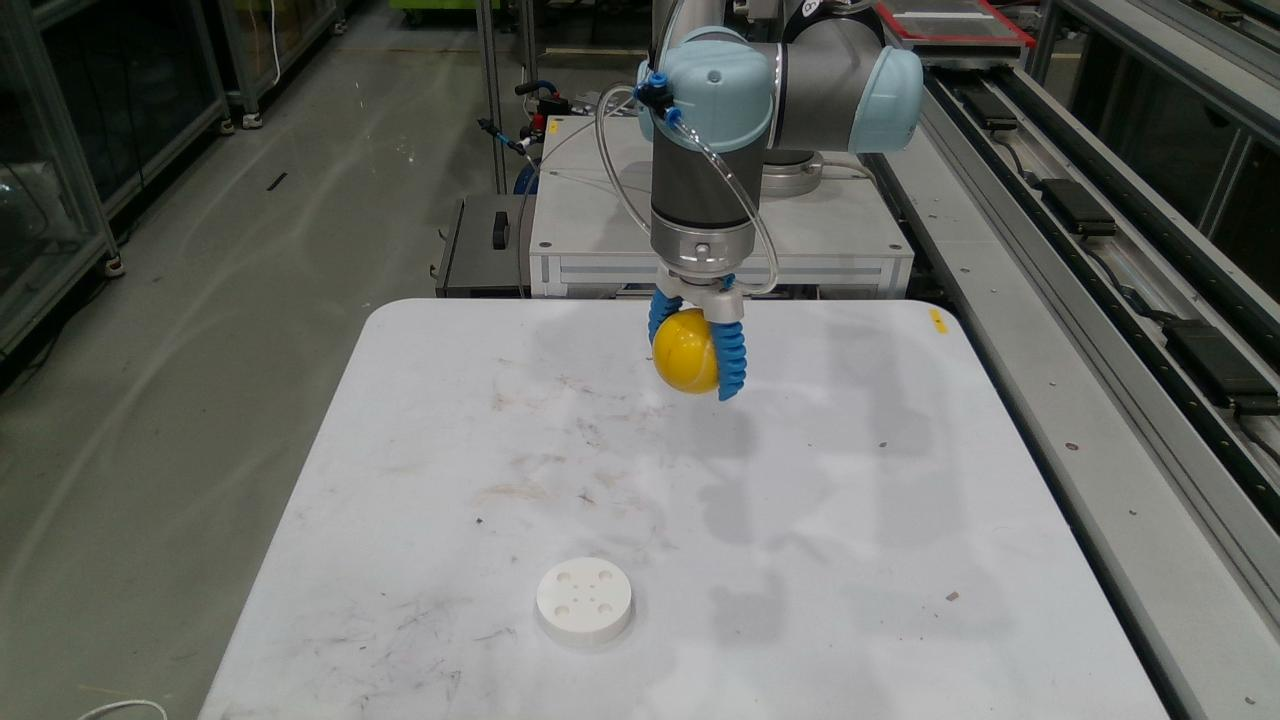UR5: (650, 0, 924, 318)
gripper_left: (648, 289, 682, 343)
gripper_right: (714, 323, 742, 399)
target: (538, 561, 630, 636), (654, 310, 716, 393)
